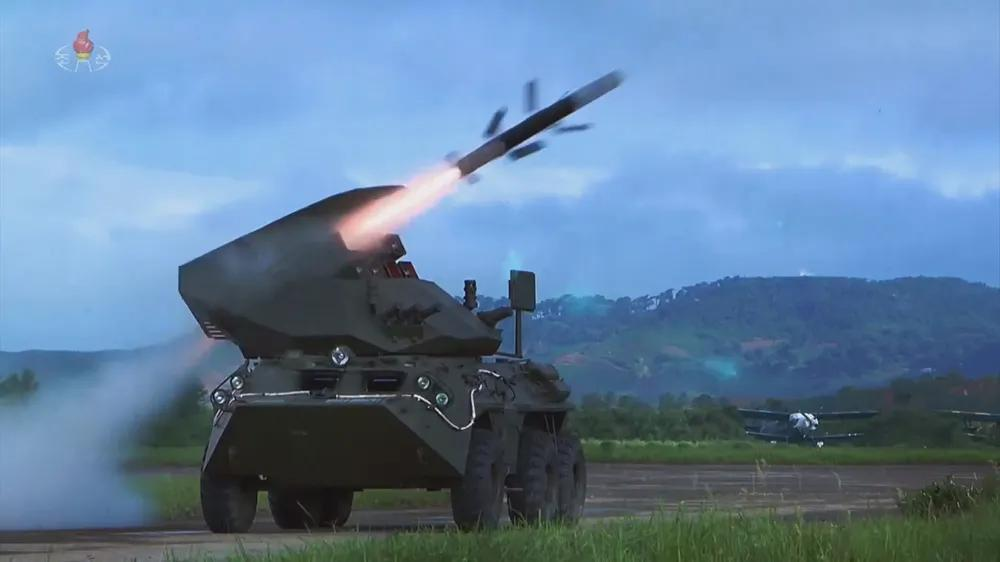MIL_IFV: (174, 177, 595, 540)
